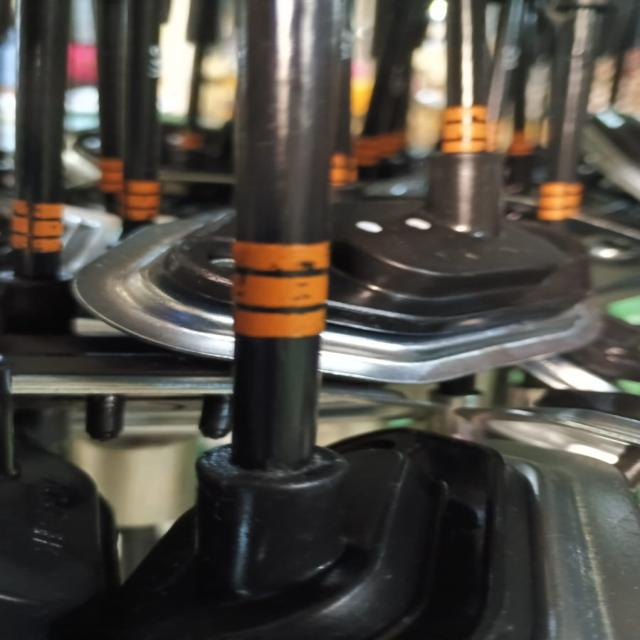orange: (232, 242, 323, 338), (13, 200, 59, 252), (443, 108, 488, 154), (120, 179, 159, 220), (538, 183, 569, 221)
